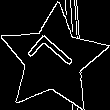L_SE: (25, 31, 82, 87)
